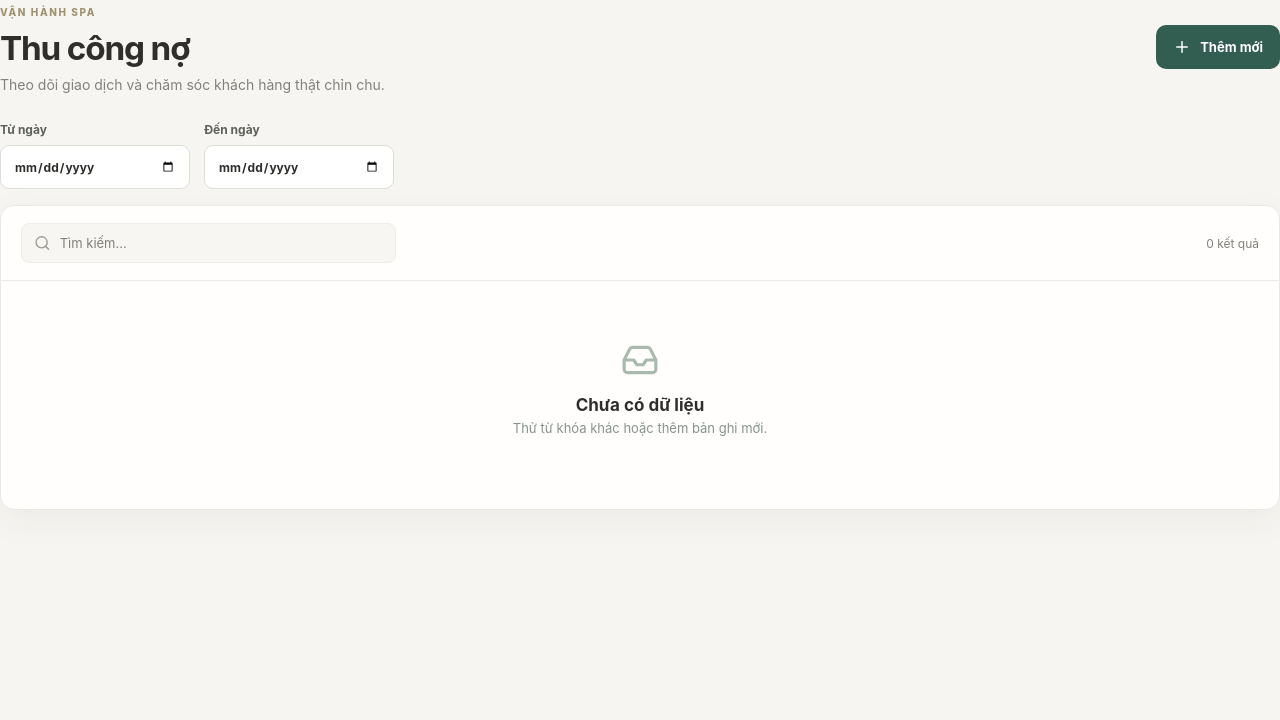
rejects amounts above legacy debt even when total debt is larger
The width and height of the screenshot is (1280, 720).
Click the button "Thêm mới": (1218, 47) top-left (1156, 25), bottom-right (1279, 69)
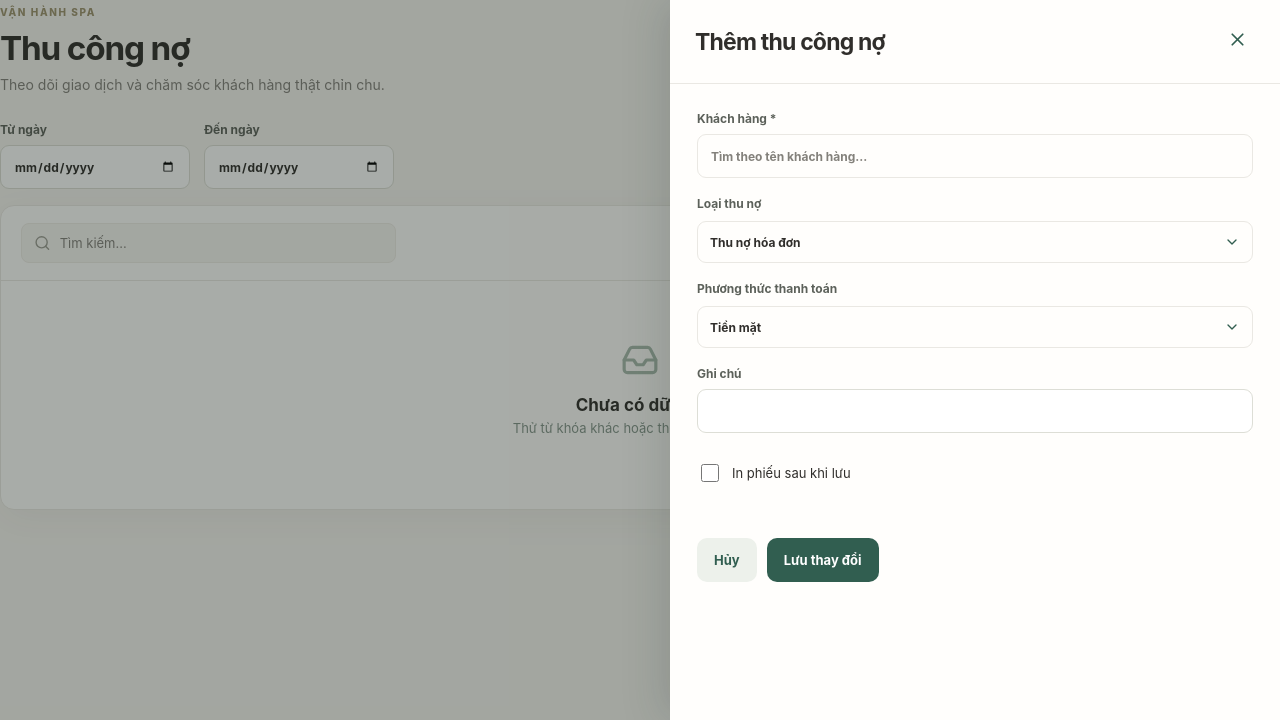
Click the dropdown named "Tìm khách hàng": (975, 156) top-left (697, 134), bottom-right (1253, 178)
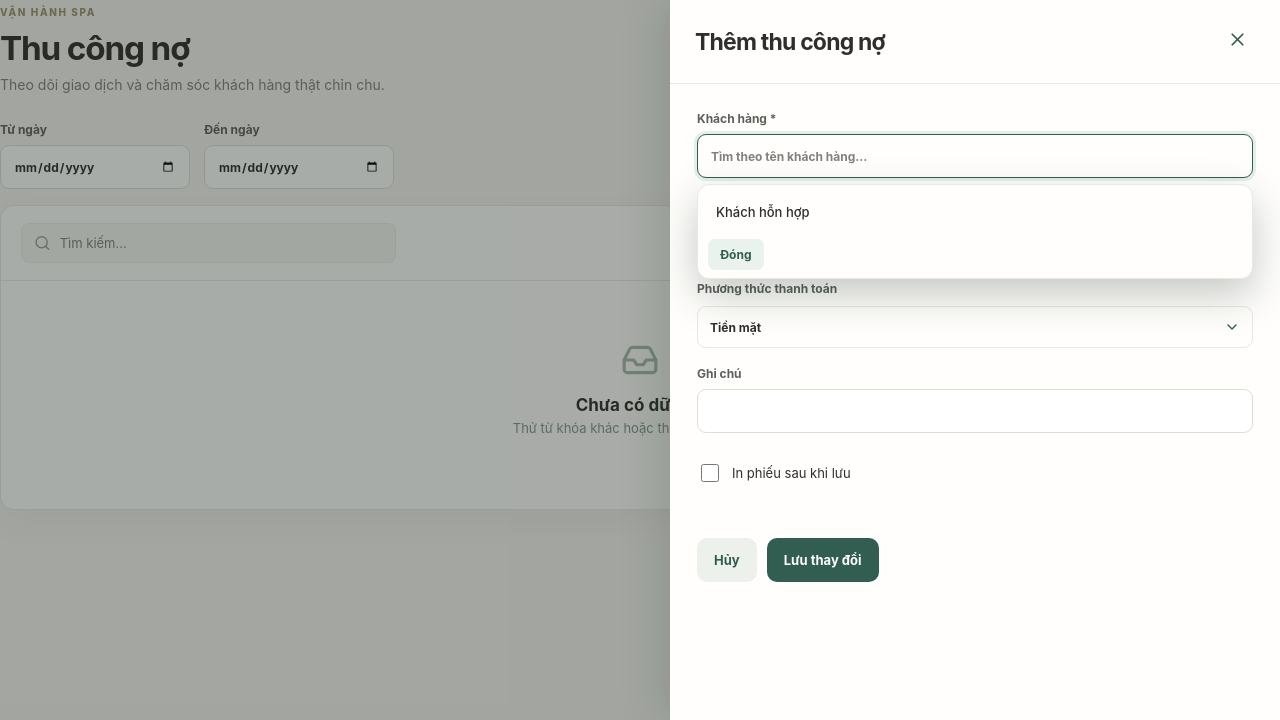
Click the option "Khách hỗn hợp": (763, 212) top-left (704, 191), bottom-right (1246, 233)
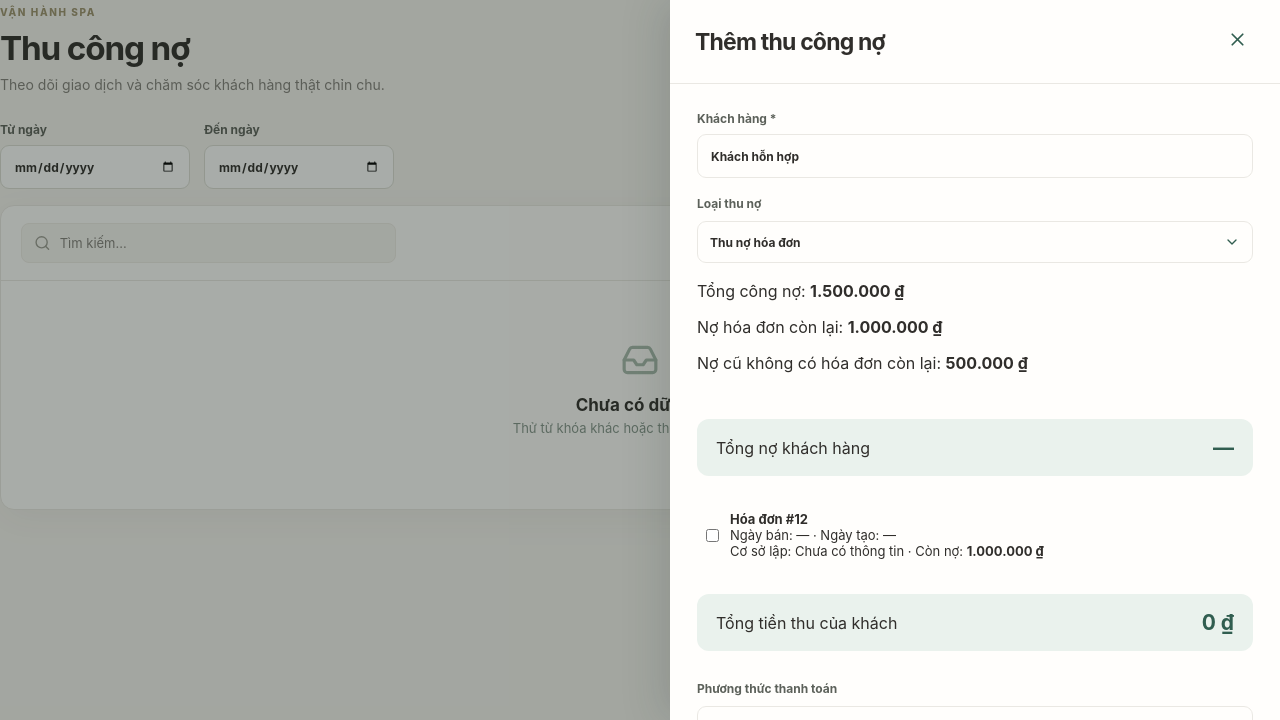
Check: the element named "Công nợ khách hàng" is shown, box top-left (697, 281), bottom-right (1028, 373)
Select "Thu nợ cũ không có hóa đơn" in the dropdown labelled "Loại thu nợ": (975, 230) top-left (697, 196), bottom-right (1253, 263)
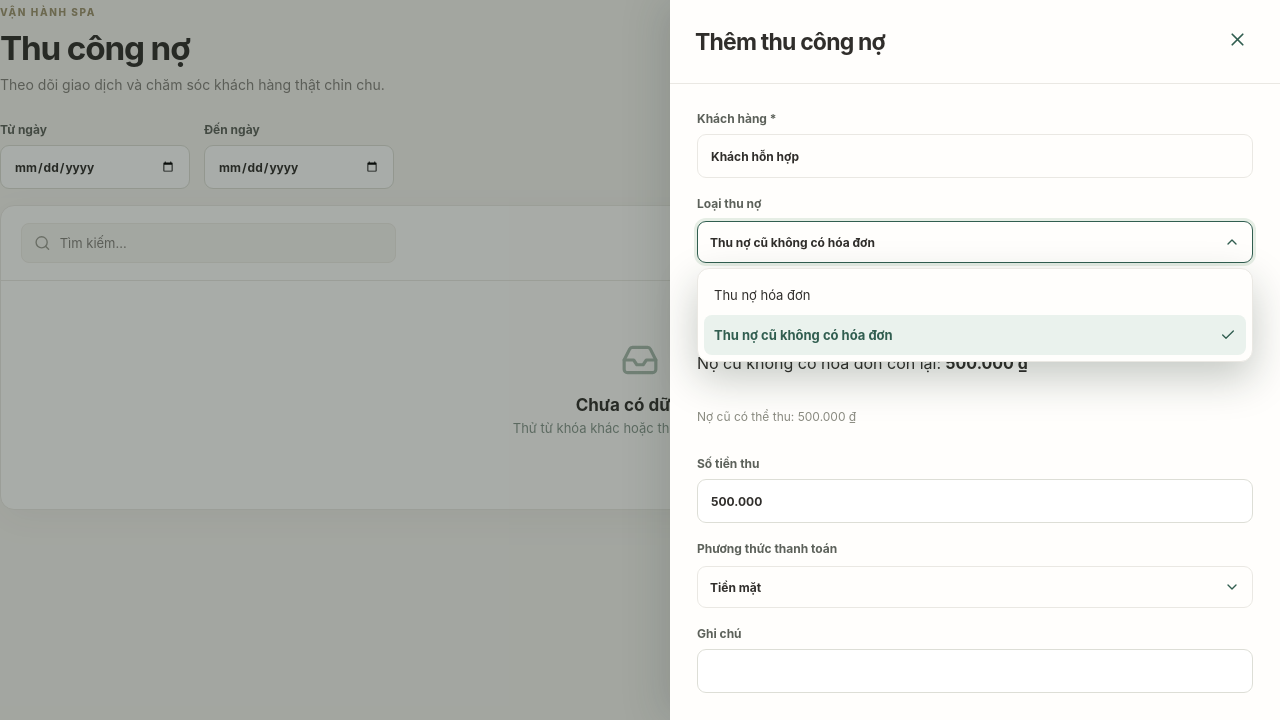
Replace the text in the field labelled "Số tiền thu" with "600000": (975, 501) top-left (697, 479), bottom-right (1253, 523)
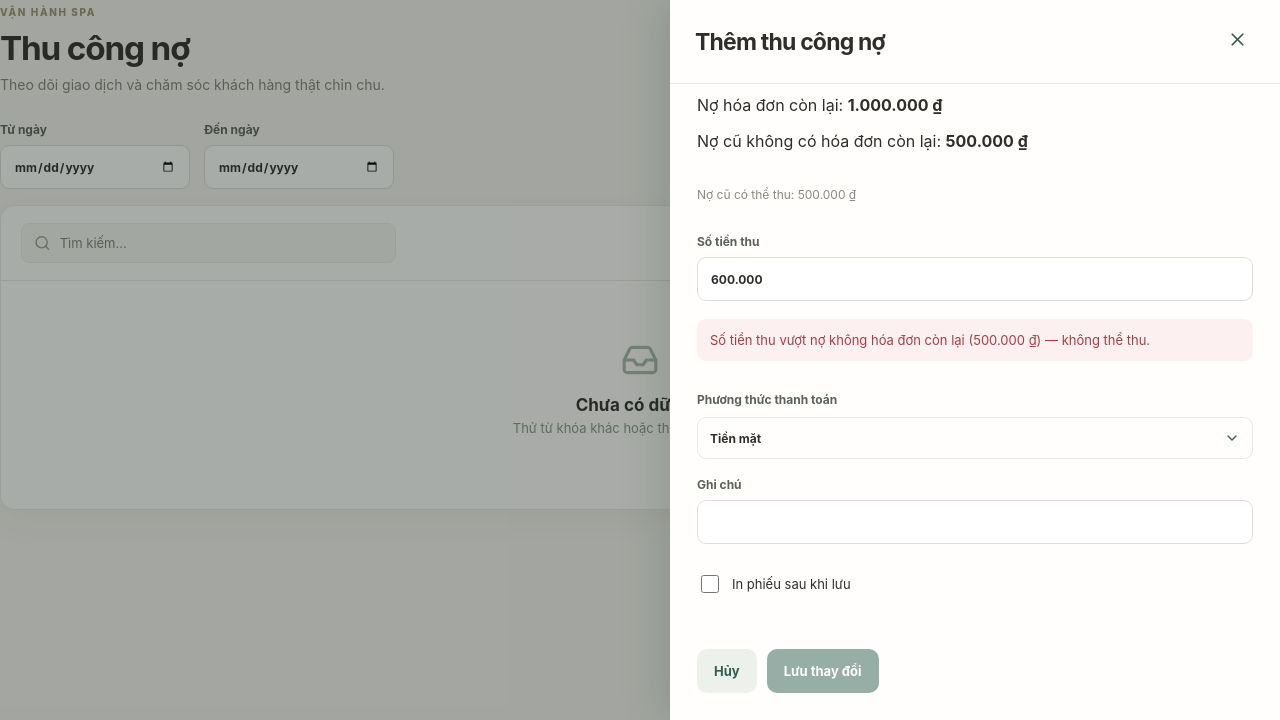
Check: the button "Lưu thay đổi" is disabled, box top-left (767, 649), bottom-right (878, 693)
